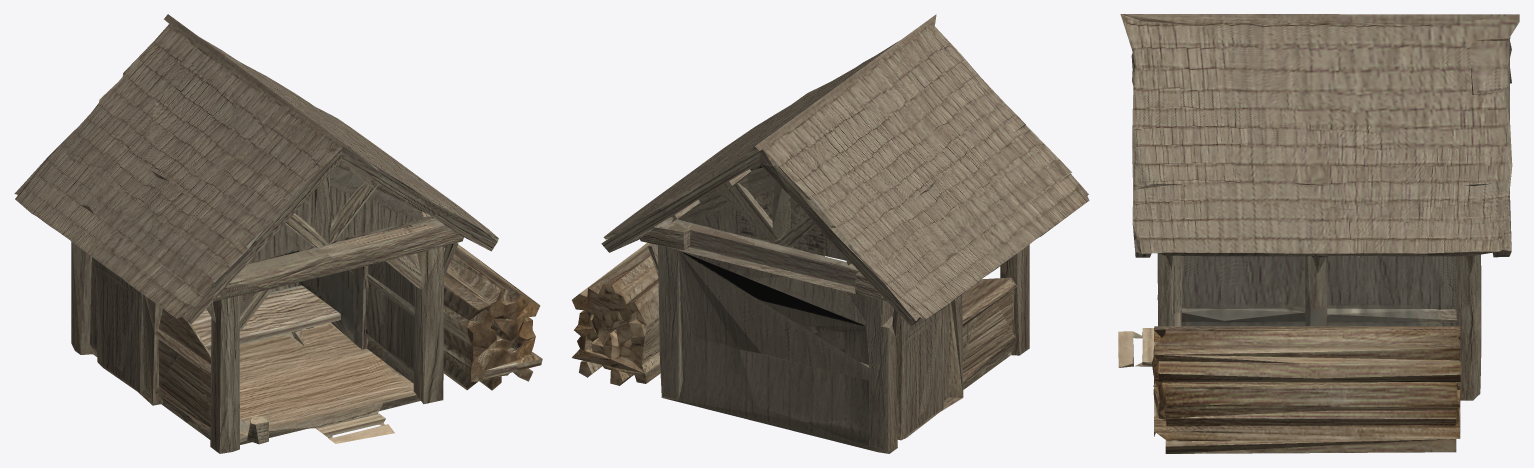
File: lumber_camp.glb
3 views of the same model, side by side, from view 1: azimuth 30°, elevation 25°; view 2: azimuth 150°, elevation 25°; view 3: azimuth 270°, elevation 25° (orthographic). The views are drawn at different scales.
Size of the model in its own units: 1.9 by 1.44 by 1.58.
Materials: 1 (1 with a texture image).
